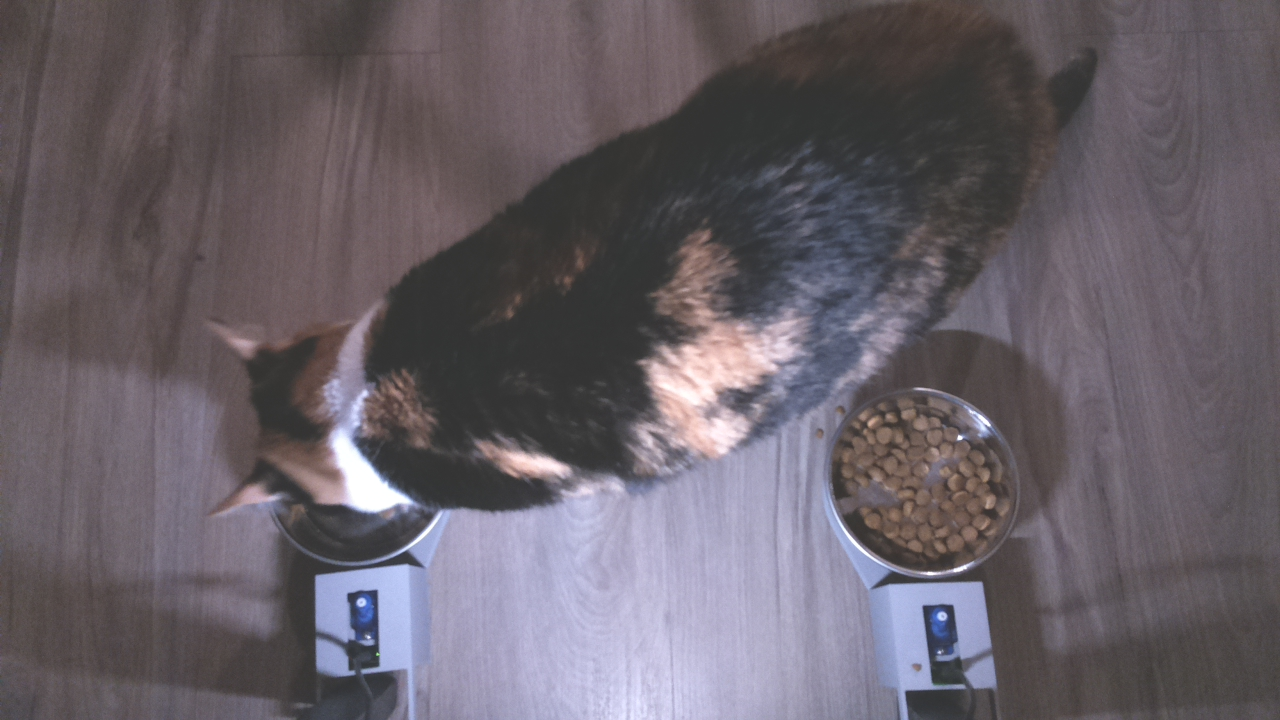bella_eating: (186, 296, 480, 563)
open_bowl: (825, 384, 1022, 580)
